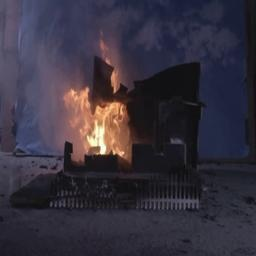fire: (66, 74, 132, 167)
